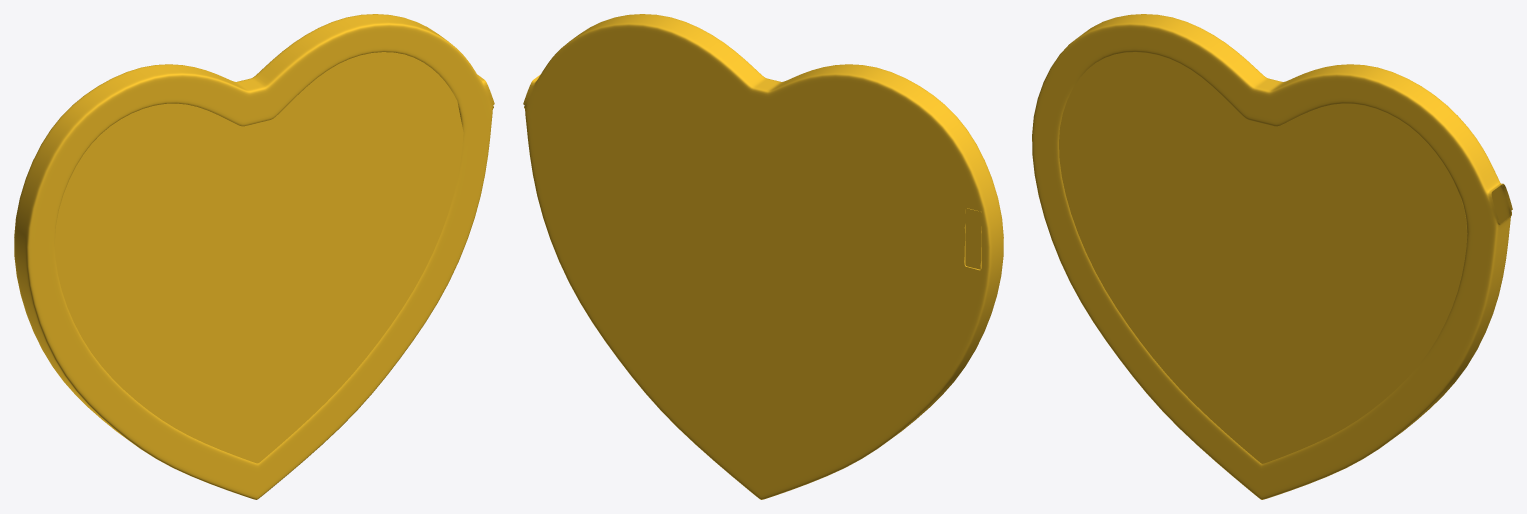
File: heartlenseright.glb
3 renders of one model, left to right at view 1: azimuth 30°, elevation 25°; view 2: azimuth 150°, elevation 25°; view 3: azimuth 330°, elevation 25°, orthographic.
Parts seen in each view (by area): view 1: 17890_Heart_Glasses_v1_NEW.004; view 2: 17890_Heart_Glasses_v1_NEW.004; view 3: 17890_Heart_Glasses_v1_NEW.004.
Boxes of the visible parts, x1,y1,x2,y2 form: 17890_Heart_Glasses_v1_NEW.004: (14, 14, 494, 499); 17890_Heart_Glasses_v1_NEW.004: (523, 14, 1003, 499); 17890_Heart_Glasses_v1_NEW.004: (1032, 14, 1512, 499).
Bounding box in the file's own units: 1.47 × 1.35 × 0.0883.
